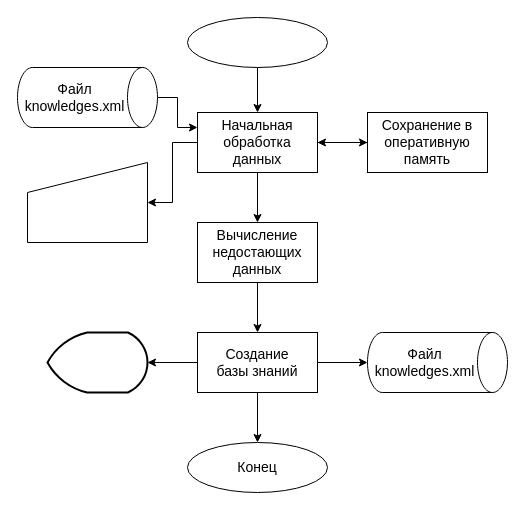
Some shapes in this 525 by 510 pixel diagram are drawn without their labels. Here are the shapes that lost their labels. From the top down, the centre of each, then its label:
[257,42]: Начало
[87,202]: Запрос входных данных
[97,362]: Вывод продукции на экран
